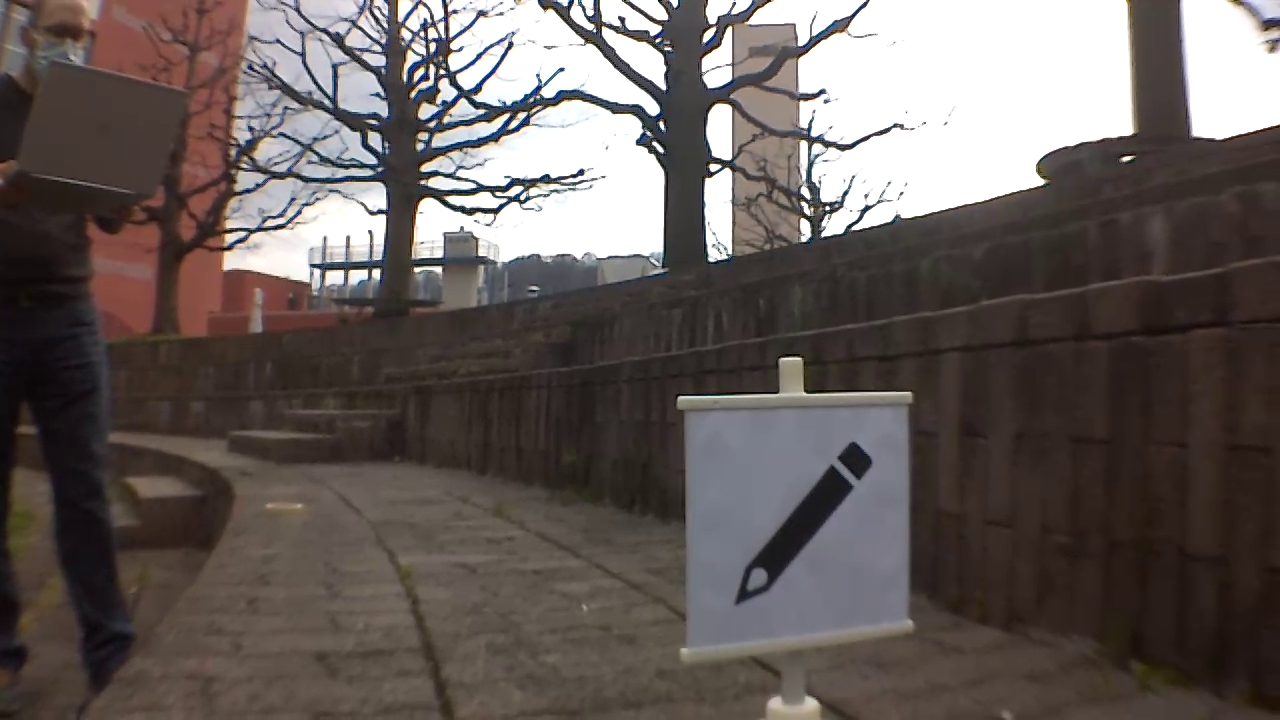pencil: (736, 432, 881, 607)
